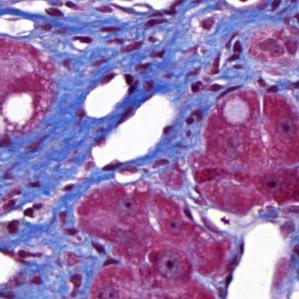inflammation: (206, 34, 249, 81), (5, 197, 50, 240)
